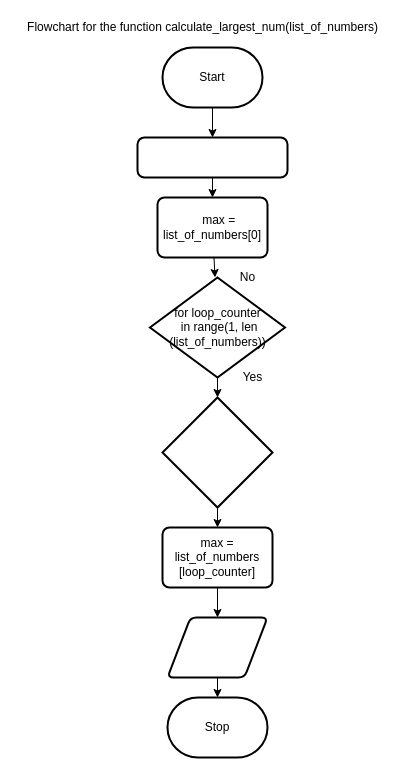
This 404x775 diagram has some shape labels left out. The shapes that lost their labels are listed below. From the top down, each one's centre as x and y in pixels, then its label:
At [212,157]: "get random_numbers []".
At [217,452]: "if list_of_numbers [loop_counter] > max:".
At [217,647]: "return max".
